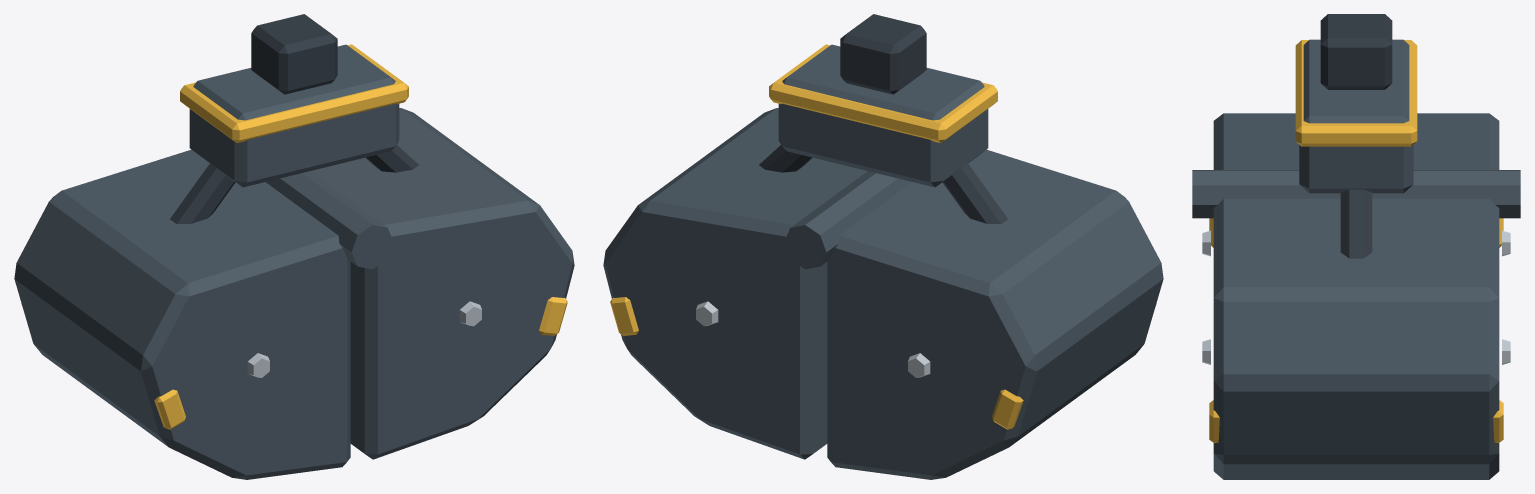
Rendered from Crane_Bucket.fbx.
3 renders of one model, left to right at view 1: azimuth 30°, elevation 25°; view 2: azimuth 150°, elevation 25°; view 3: azimuth 270°, elevation 25°, orthographic. The views are drawn at different scales.
Parts seen in each view (by area): view 1: ShellL, ShellR, Frame, FrameDark, Amber_Metal, SteelLight; view 2: ShellL, ShellR, Frame, FrameDark, Amber_Metal, SteelLight; view 3: ShellR, Frame, ShellL, FrameDark, Amber_Metal, SteelLight.
Part boxes in pixels (x1,y1,x2,y2): ShellL: (14, 149, 350, 479); ShellR: (310, 108, 574, 459); Frame: (189, 44, 399, 269); FrameDark: (170, 14, 418, 223); Amber_Metal: (21, 44, 567, 429); SteelLight: (247, 301, 481, 377); ShellL: (827, 149, 1163, 479); ShellR: (603, 108, 867, 459); Frame: (778, 44, 988, 269); FrameDark: (759, 14, 1007, 223); Amber_Metal: (610, 44, 1156, 429); SteelLight: (696, 301, 930, 377); ShellR: (1213, 198, 1499, 479); Frame: (1192, 39, 1520, 218); ShellL: (1213, 113, 1499, 169); FrameDark: (1320, 14, 1392, 258); Amber_Metal: (1209, 40, 1503, 442); SteelLight: (1202, 230, 1510, 364).
Bounding box in the file's own units: 3.68 × 3.14 × 2.3.
